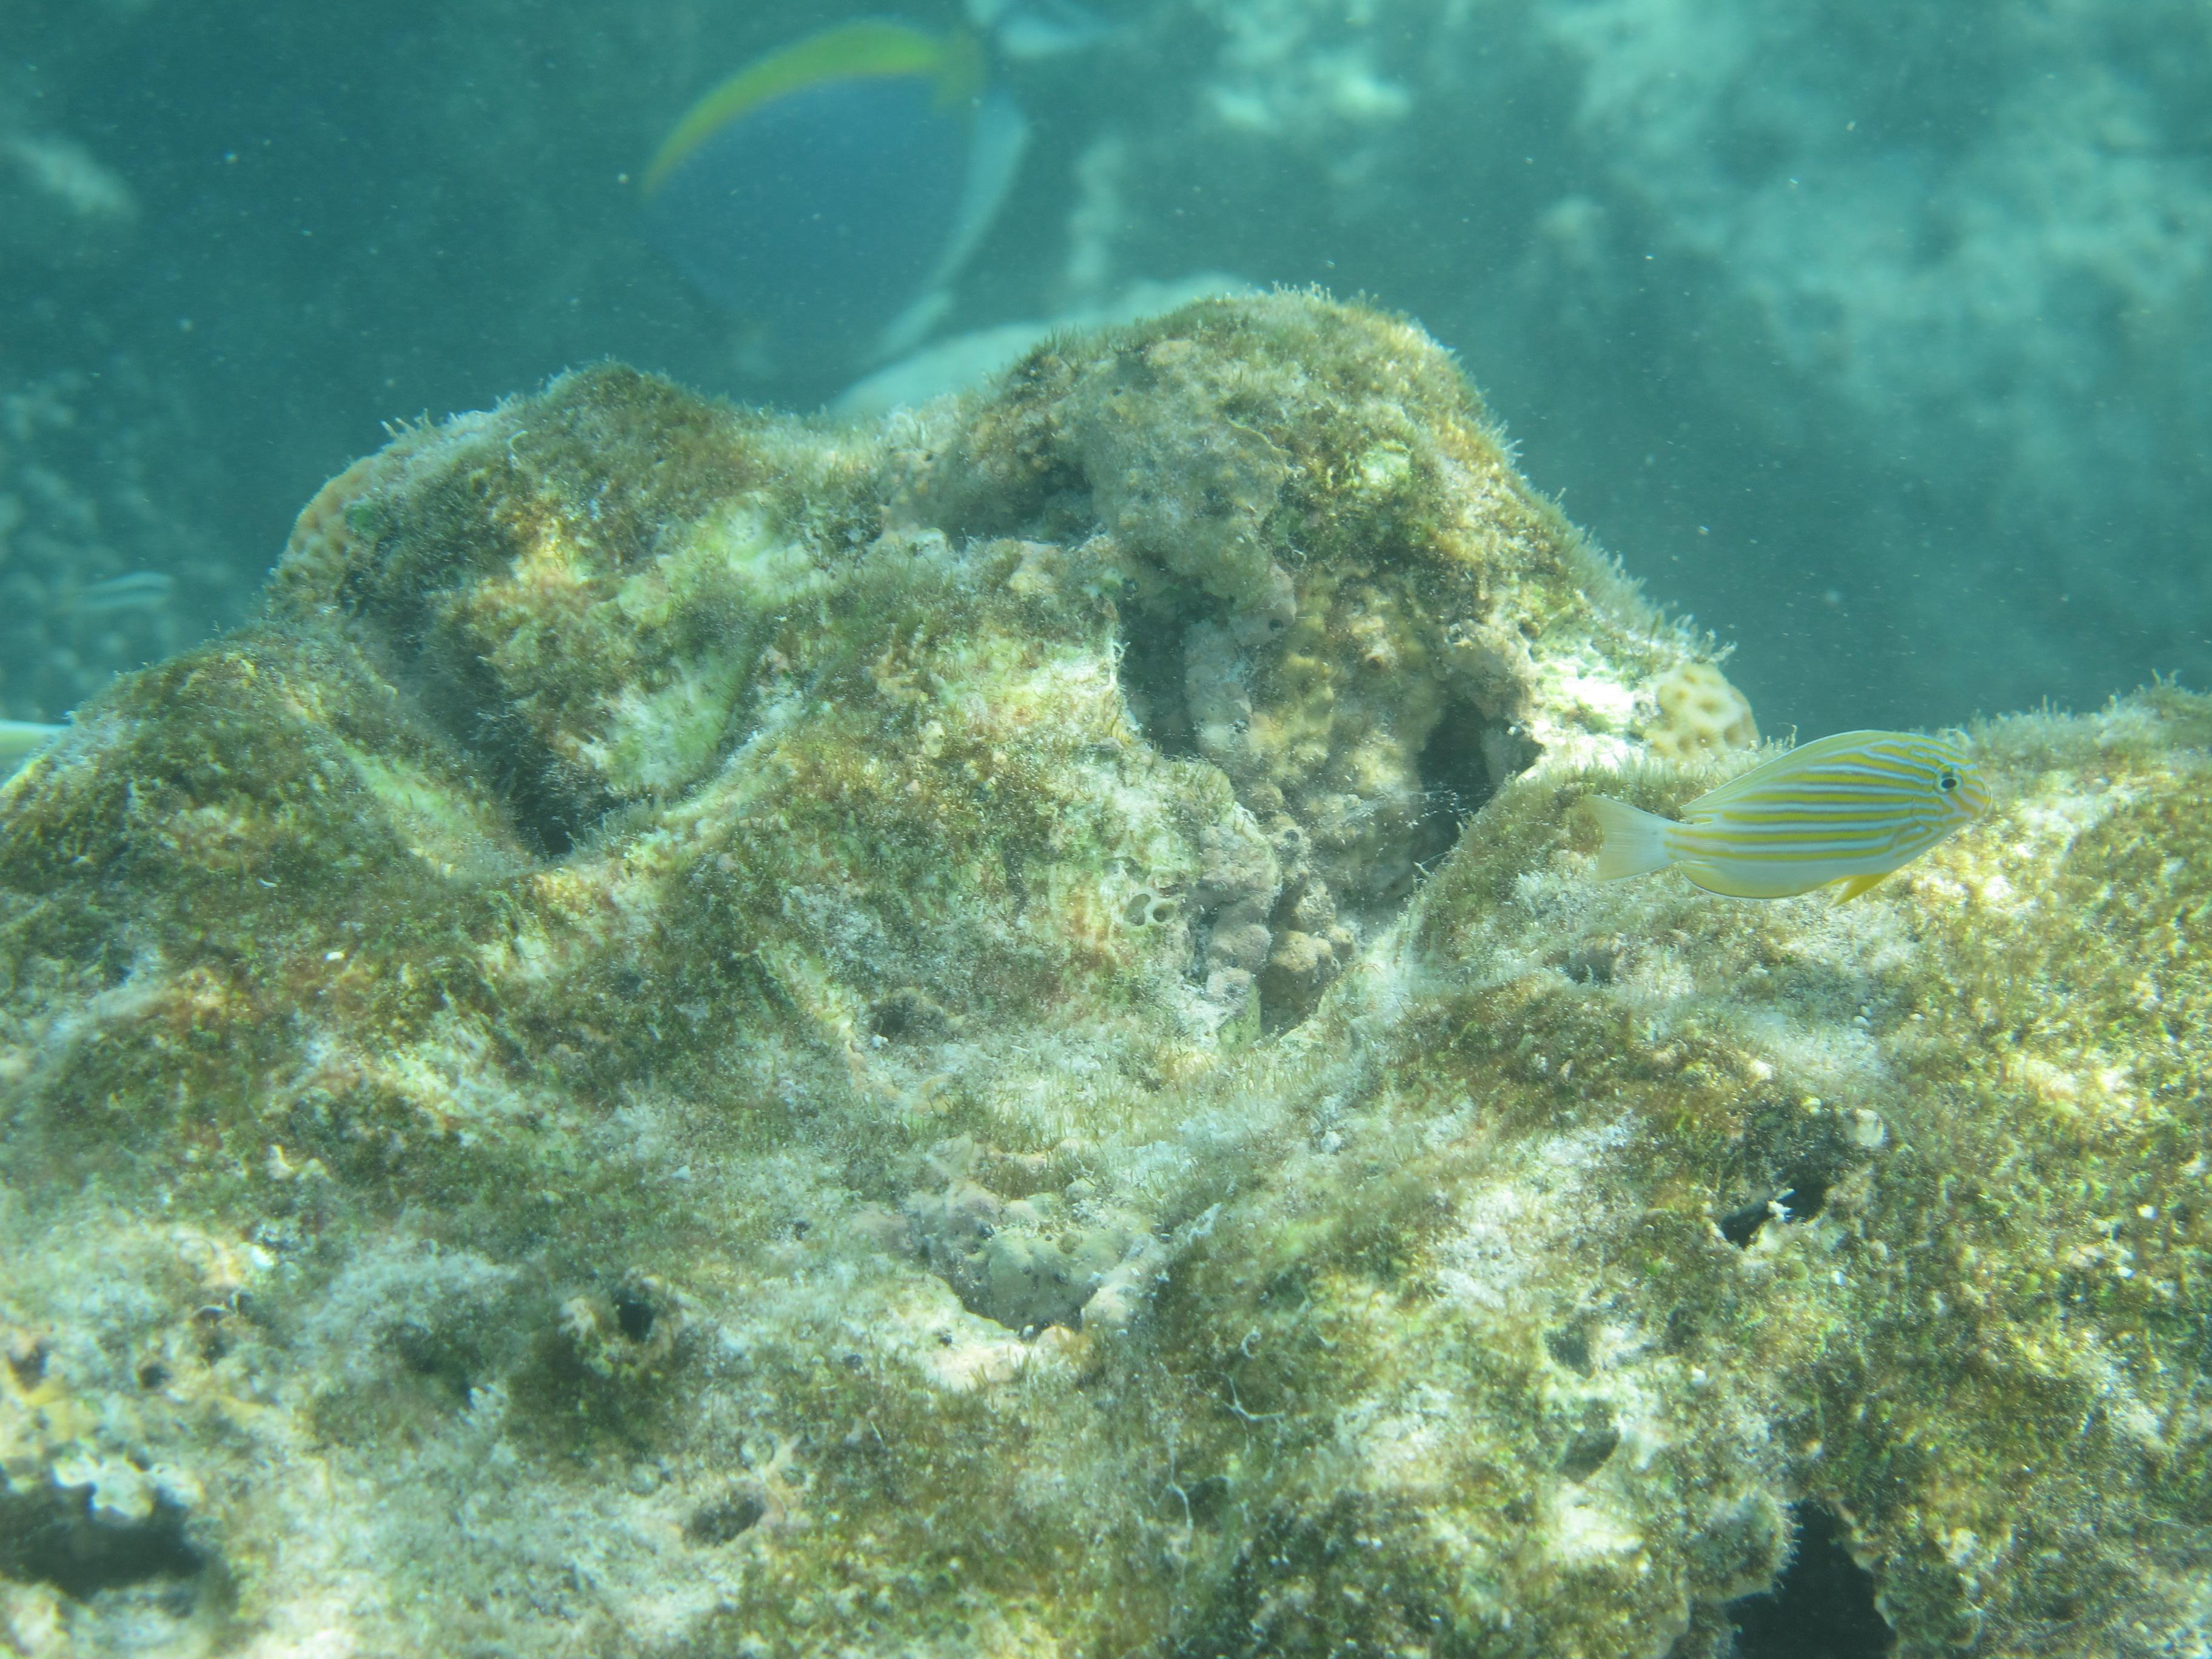Acanthurus lineatus: (1554, 680, 2019, 953)
